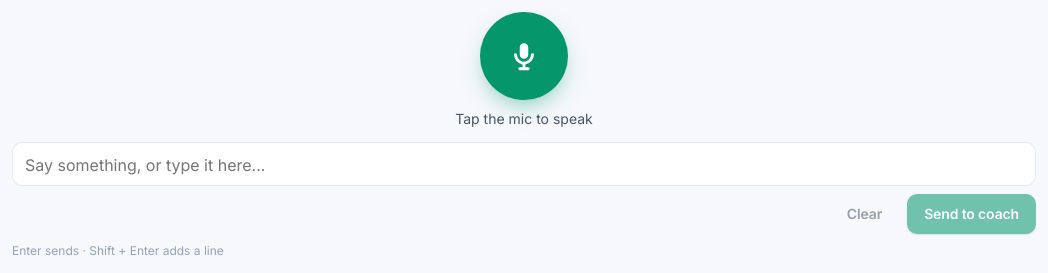
Test: VoiceInputBar › with SpeechRecognition support › stages recognized speech in the editable composer
The image size is (1048, 273).
Click the button named "start recording".
click(524, 56)  # box [480,12,568,100]
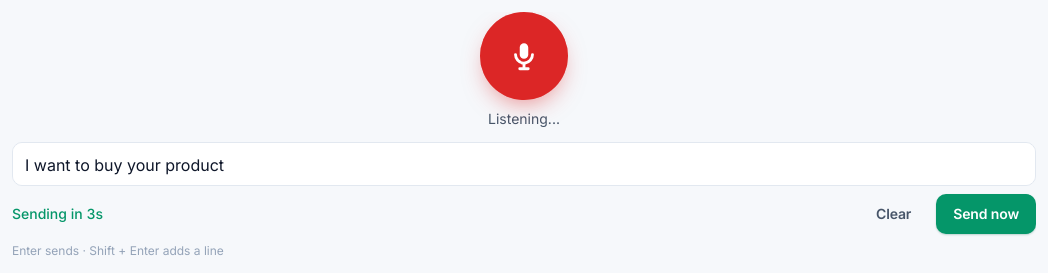
Now the text box named "message" holds "I want to buy your product", box [12,142,1036,186]
